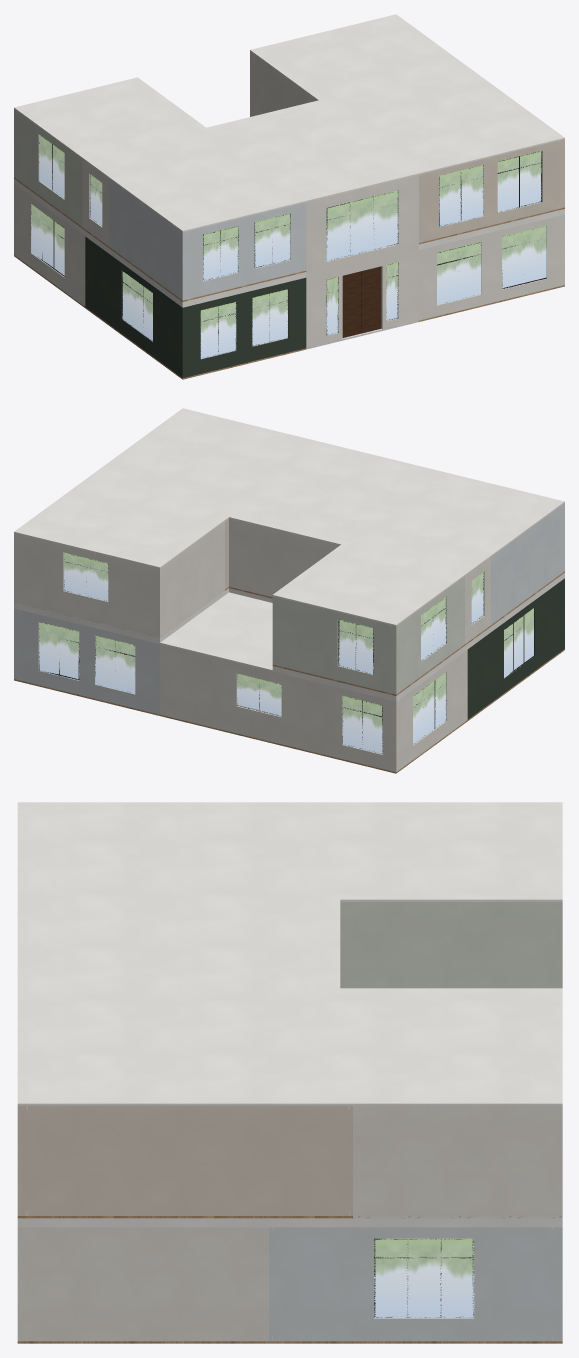
Rendered from sheridan-road.glb.
The picture shows the model from 3 angles, top to bottom: view 1: azimuth 30°, elevation 25°; view 2: azimuth 150°, elevation 25°; view 3: azimuth 270°, elevation 25°; orthographic projection. The views are drawn at different scales.
Visible parts, largest first — view 1: Ceiling, Window_Daylight, Wall_Paint, Wall_Library_Green, Wall_Mist, Wall_Greige, Wall_Sage, Door_Walnut, Floor_White_Oak, Window_Frame; view 2: Ceiling, Wall_Paint, Window_Daylight, Wall_Mist, Wall_Sage, Wall_Library_Green, Floor_White_Oak, Window_Frame; view 3: Ceiling, Wall_Paint, Wall_Greige, Wall_Mist, Wall_Sage, Window_Daylight, Floor_White_Oak.
Part boxes in pixels (box(x1,y1,x2,y2)): Ceiling: box(14, 14, 564, 307); Window_Daylight: box(31, 135, 546, 359); Wall_Paint: box(14, 51, 564, 347); Wall_Library_Green: box(85, 236, 306, 377); Wall_Mist: box(108, 178, 306, 300); Wall_Greige: box(315, 99, 564, 242); Wall_Sage: box(14, 109, 82, 226); Door_Walnut: box(342, 266, 381, 337); Floor_White_Oak: box(14, 177, 564, 379); Window_Frame: box(31, 136, 546, 358); Ceiling: box(14, 408, 564, 701); Wall_Paint: box(14, 518, 490, 771); Window_Daylight: box(39, 552, 533, 754); Wall_Mist: box(14, 503, 564, 714); Wall_Sage: box(272, 576, 464, 694); Wall_Library_Green: box(467, 578, 564, 719); Floor_White_Oak: box(14, 571, 564, 773); Window_Frame: box(39, 554, 534, 753); Ceiling: box(17, 802, 562, 1227); Wall_Paint: box(17, 1105, 562, 1341); Wall_Greige: box(17, 1105, 352, 1215); Wall_Mist: box(269, 1227, 562, 1341); Wall_Sage: box(340, 902, 562, 988); Window_Daylight: box(374, 1238, 474, 1317); Floor_White_Oak: box(17, 1216, 562, 1343).
Bounding box in the file's own units: 17.11 × 6.32 × 13.14.
68 materials, 32 textured.
